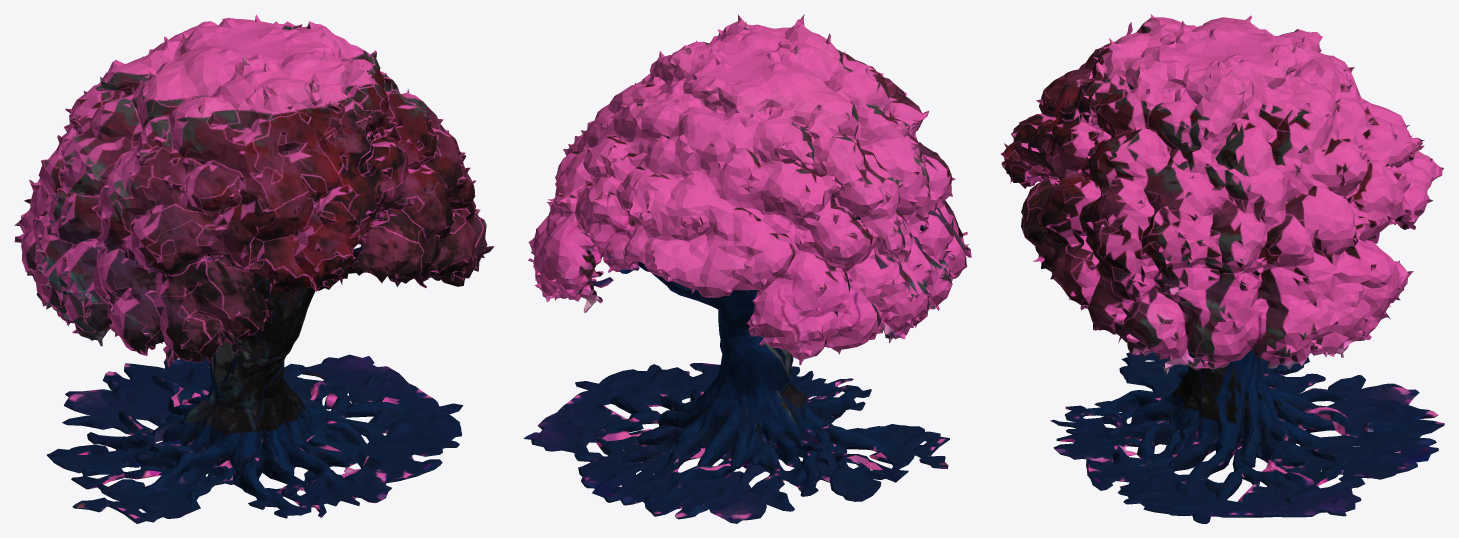
The model's file is yggdrasil-world-tree-comfyui-single-view-projection.glb.
The picture shows the model from 3 angles, left to right: view 1: azimuth 30°, elevation 25°; view 2: azimuth 150°, elevation 25°; view 3: azimuth 270°, elevation 25°; orthographic projection. The views are drawn at different scales.
Visible parts, largest first — view 1: temp_mesh.ply; view 2: temp_mesh.ply; view 3: temp_mesh.ply.
Boxes of the visible parts, x1,y1,x2,y2 form: temp_mesh.ply: (14, 14, 494, 523); temp_mesh.ply: (523, 14, 971, 523); temp_mesh.ply: (1000, 14, 1444, 523).
Bounding box in the file's own units: 1.97 × 1.95 × 1.95.
1 material, 1 textured.
